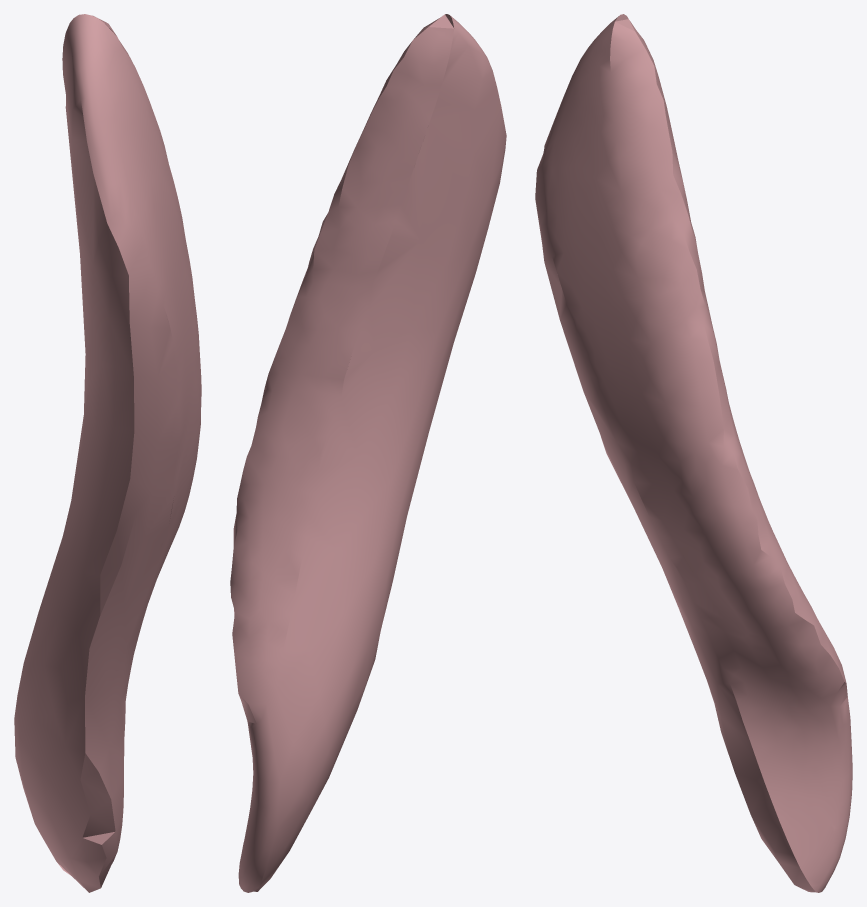
File: fma48978_mm1083m.glb
3 views of the same model, side by side, from view 1: azimuth 30°, elevation 25°; view 2: azimuth 150°, elevation 25°; view 3: azimuth 270°, elevation 25° (orthographic). The views are drawn at different scales.
Parts seen in each view (by area): view 1: FMA48978_MM1083M; view 2: FMA48978_MM1083M; view 3: FMA48978_MM1083M.
Part boxes in pixels (left/top/right/bottom): FMA48978_MM1083M: left=14, top=14, right=201, bottom=892; FMA48978_MM1083M: left=230, top=14, right=506, bottom=892; FMA48978_MM1083M: left=535, top=14, right=852, bottom=892.
Bounding box in the file's own units: 0.00329 × 0.0156 × 0.00542.
